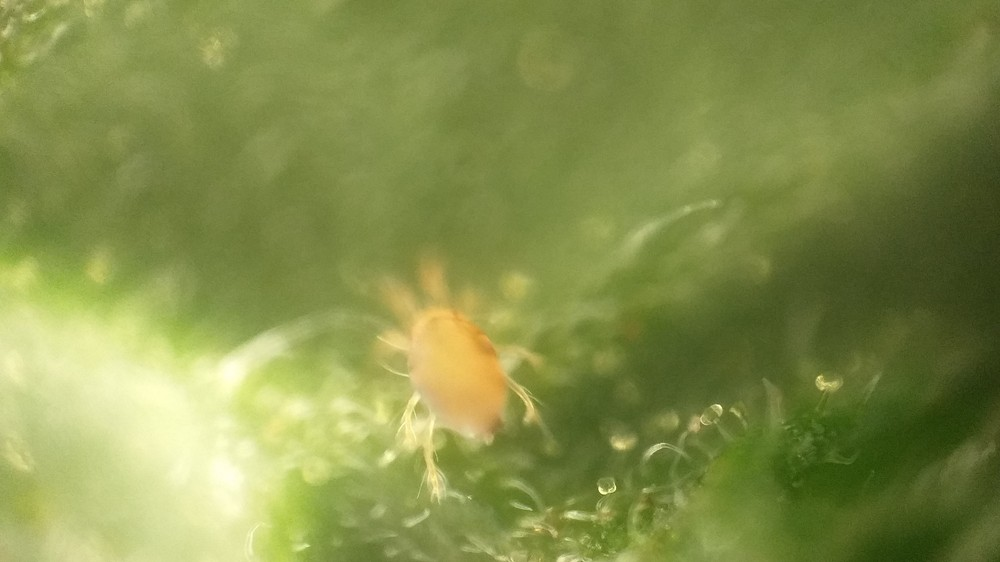Aracnido Rojo: (354, 262, 589, 491)
